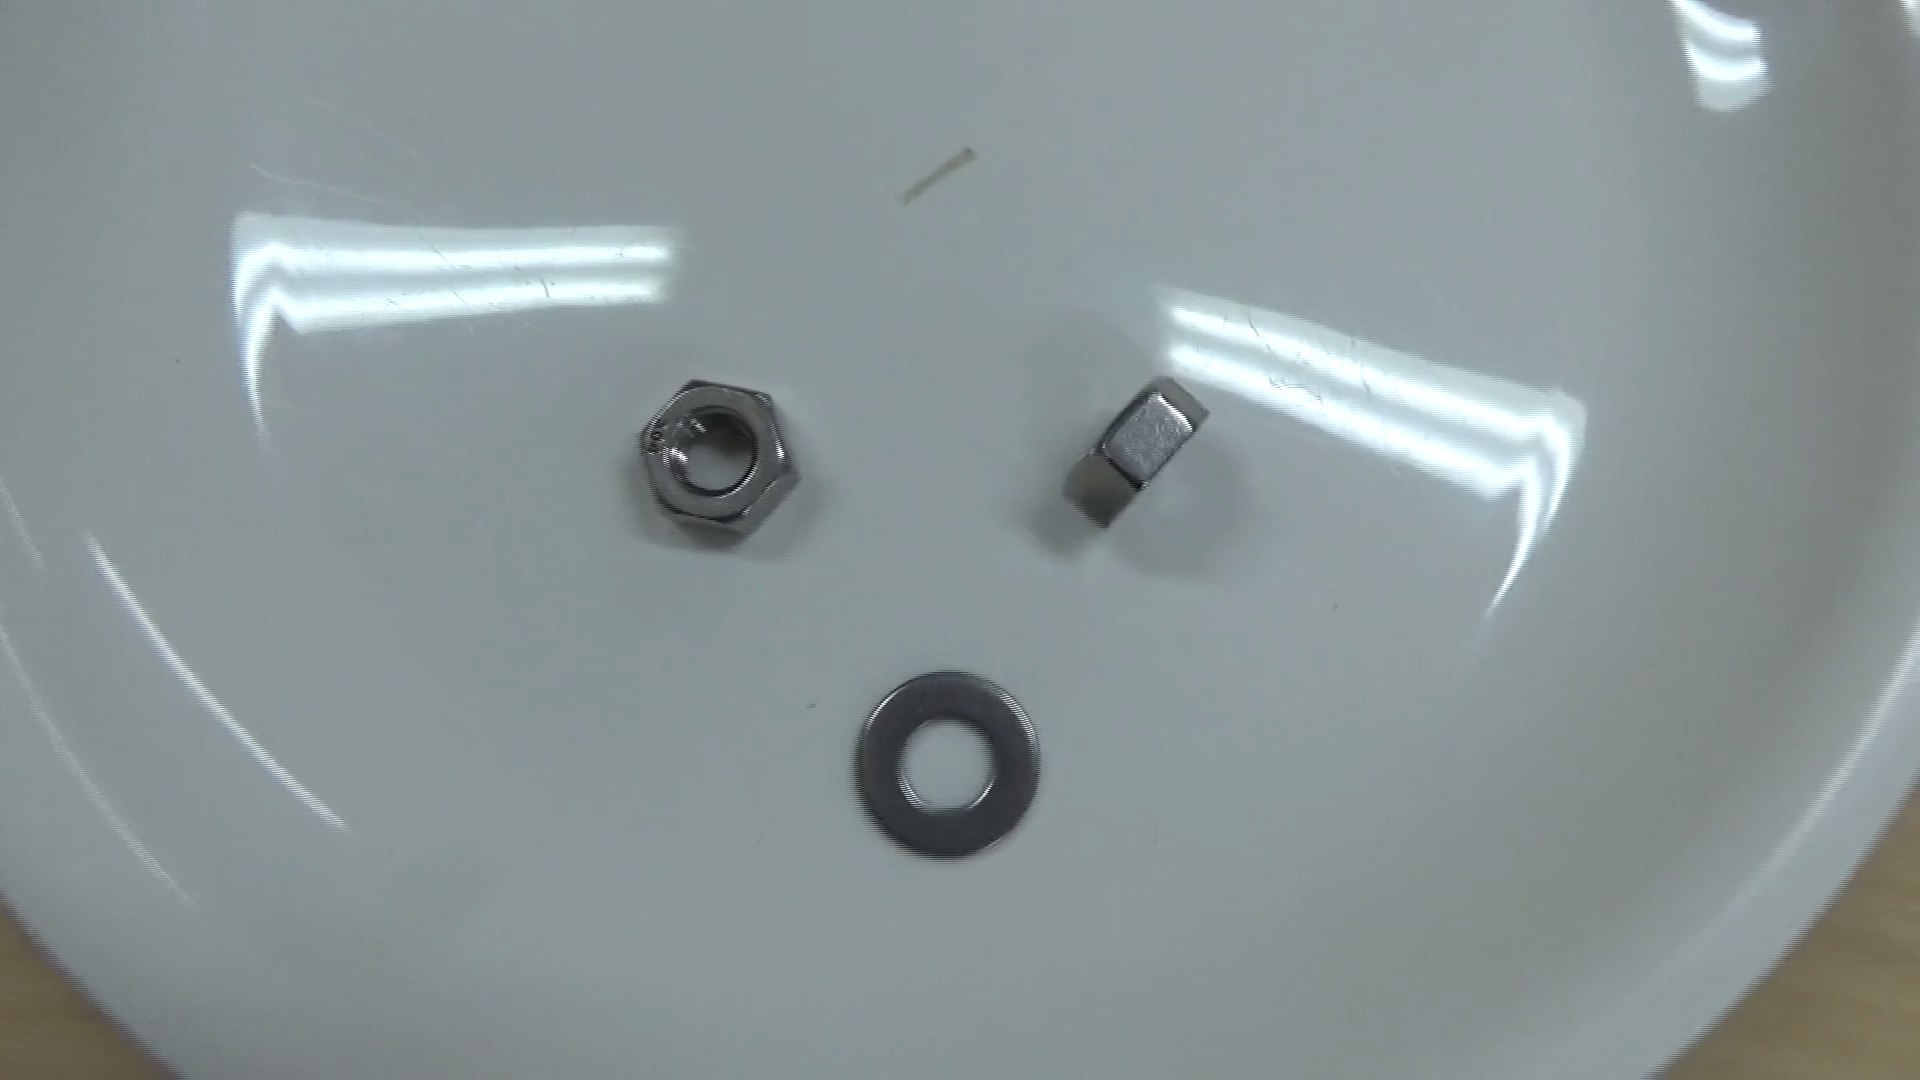nut: (620, 365, 807, 550), (1050, 363, 1218, 550)
washer: (840, 653, 1056, 866)
